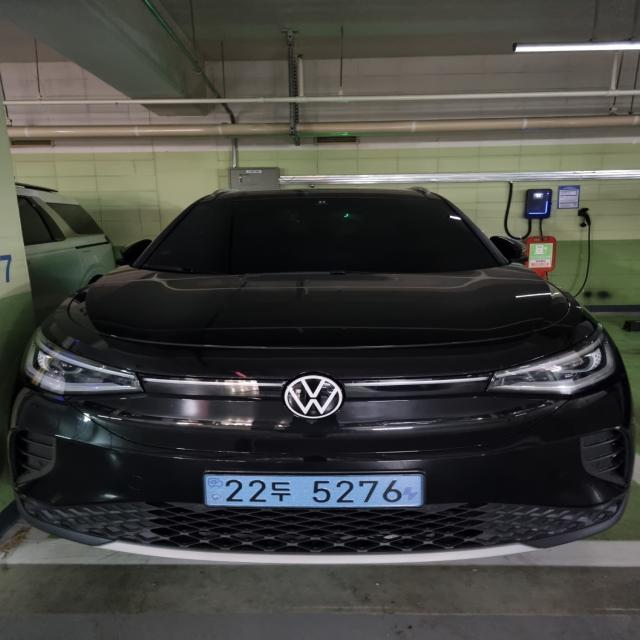car: (183, 465, 448, 522)
carev: (399, 473, 427, 512), (202, 471, 224, 514)
